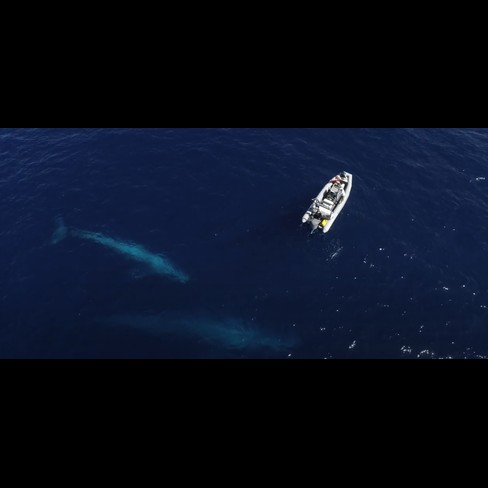bluewhale: (45, 210, 196, 286)
boat: (297, 169, 357, 237)
